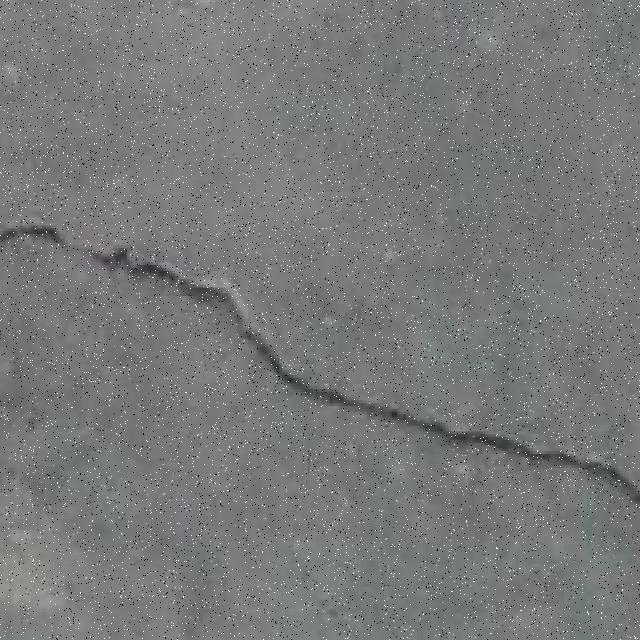minor crack: (8, 224, 637, 521), (4, 509, 636, 640)
severe crack: (86, 240, 274, 336)
